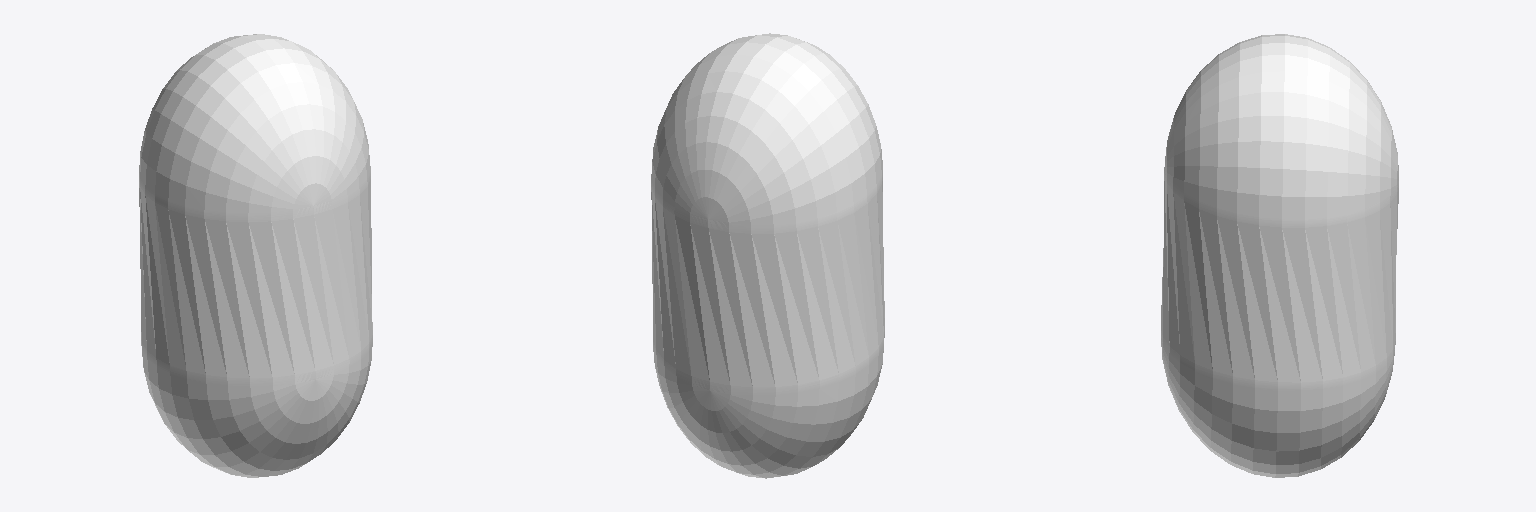
3 views of the same model, side by side, from view 1: azimuth 30°, elevation 25°; view 2: azimuth 150°, elevation 25°; view 3: azimuth 270°, elevation 25° (orthographic).
Visible parts, largest first — view 1: Object018; view 2: Object018; view 3: Object018.
Part boxes in pixels (left/top/right/bottom): Object018: left=139, top=34, right=372, bottom=477; Object018: left=651, top=33, right=884, bottom=478; Object018: left=1161, top=34, right=1398, bottom=477.
Size of the model in its own units: 4.1 by 8.33 by 4.22.
Materials: 1 (1 with a texture image).